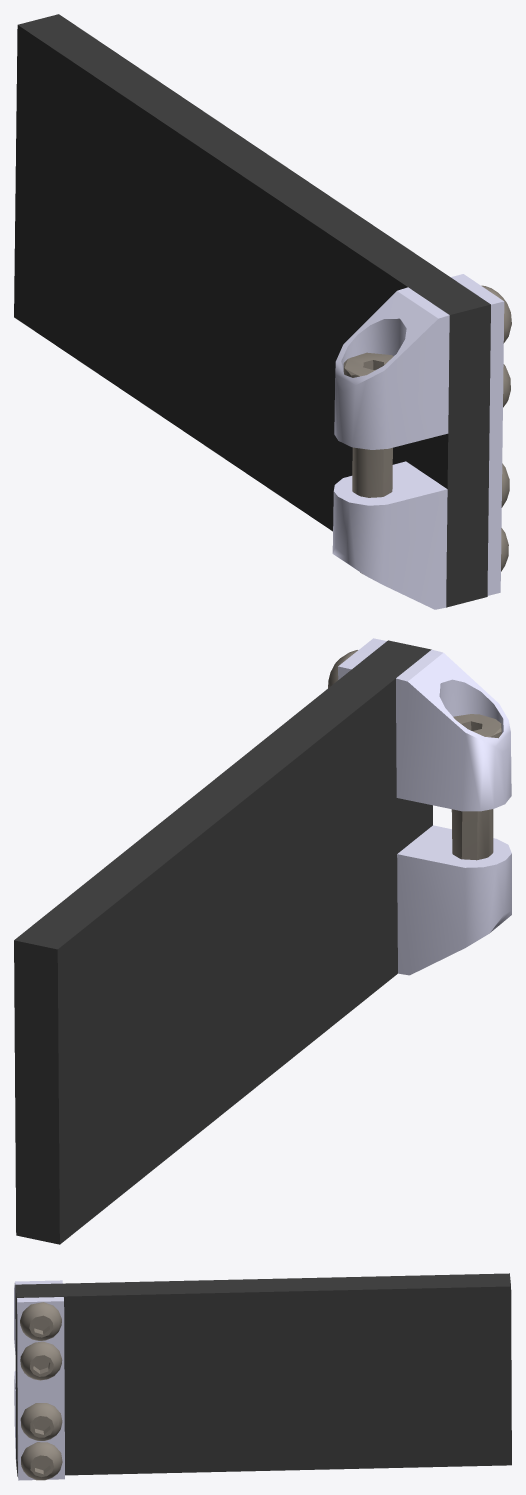
The model's file is right-heel-spring.obj.
3 views of the same model, one above another, from view 1: azimuth 30°, elevation 25°; view 2: azimuth 150°, elevation 25°; view 3: azimuth 270°, elevation 25° (orthographic). The views are drawn at different scales.
Parts seen in each view (by area): view 1: right_heel_spring; view 2: right_heel_spring; view 3: right_heel_spring.
Part boxes in pixels (box(x1,y1,x2,y2)): right_heel_spring: box(14, 14, 511, 609); right_heel_spring: box(14, 638, 511, 1244); right_heel_spring: box(14, 1273, 511, 1480).
Size of the model in its own units: 0.0298 by 0.0507 by 0.1255.
1 material, 1 textured.
